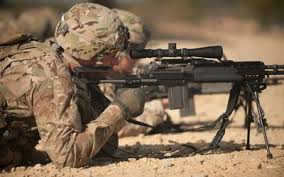Gun: (142, 49, 282, 115)
